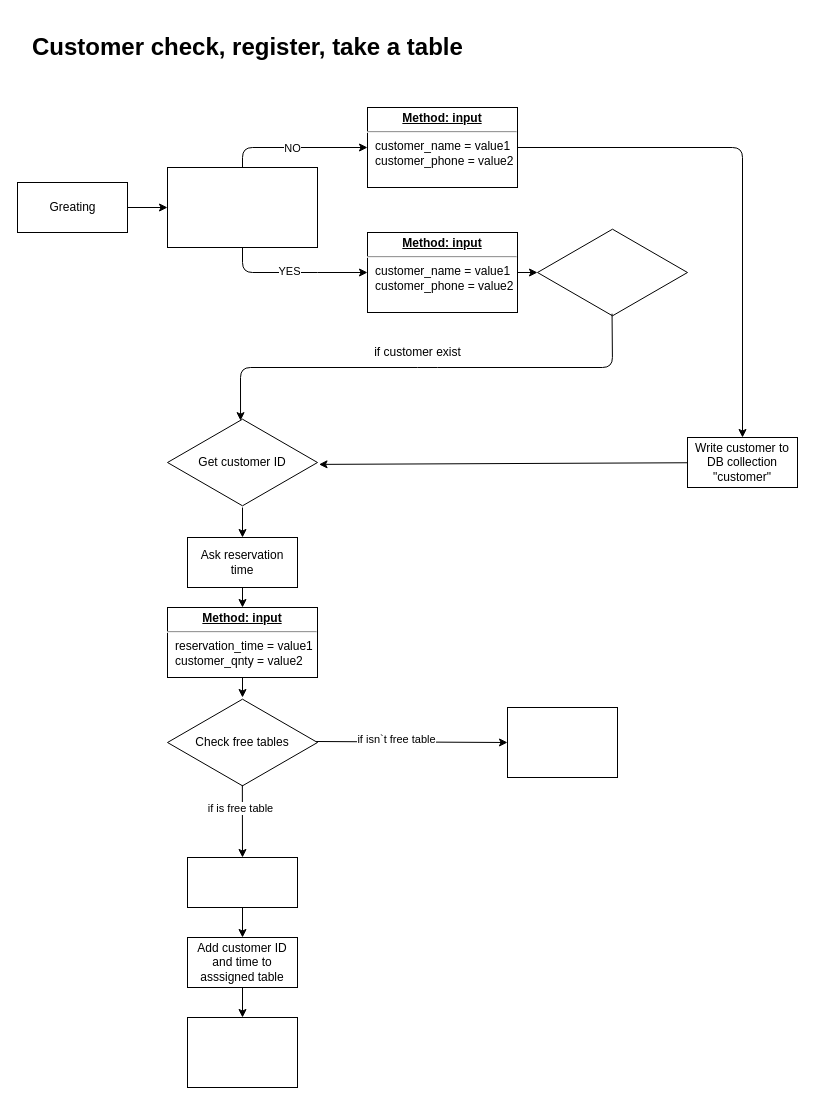
This 815x1105 diagram has some shape labels left out. The centre of each missing label's shape, as x and y in pixels:
Check customer in DB: the point at 612,272
Method: choose ask, if was reservation before reserved_before = value1: the point at 242,207
Print out "sorry int this time we don`t have free table for you": the point at 562,742
Print out customer name, assigned table, reservation time: the point at 242,1052
Select table: the point at 242,882
